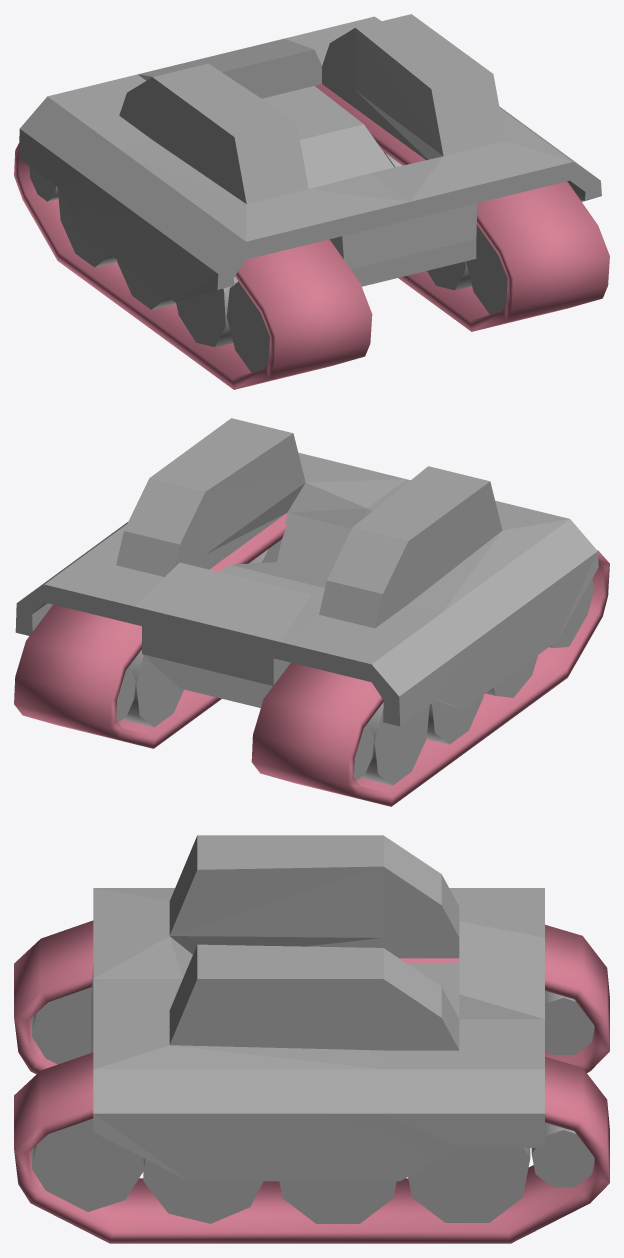
File: TankTreadsFrameA.FBX
3 views of the same model, one above another, from view 1: azimuth 30°, elevation 25°; view 2: azimuth 150°, elevation 25°; view 3: azimuth 270°, elevation 25° (orthographic). The views are drawn at different scales.
Parts seen in each view (by area): view 1: TankTreadsFrameA, TankTreadsLeftA, TAnkTreadsRightA; view 2: TankTreadsFrameA, TankTreadsLeftA, TAnkTreadsRightA; view 3: TankTreadsFrameA, TAnkTreadsRightA, TankTreadsLeftA.
Boxes of the visible parts, box(x1,y1,x2,y2) form: TankTreadsFrameA: box(18, 14, 601, 372); TankTreadsLeftA: box(14, 143, 372, 389); TAnkTreadsRightA: box(315, 84, 609, 331); TankTreadsFrameA: box(15, 418, 598, 785); TankTreadsLeftA: box(251, 550, 609, 806); TAnkTreadsRightA: box(14, 513, 287, 748); TankTreadsFrameA: box(32, 835, 594, 1223); TAnkTreadsRightA: box(14, 1052, 609, 1243); TankTreadsLeftA: box(14, 920, 609, 1074).
Size of the model in its own units: 405 by 216 by 478.
